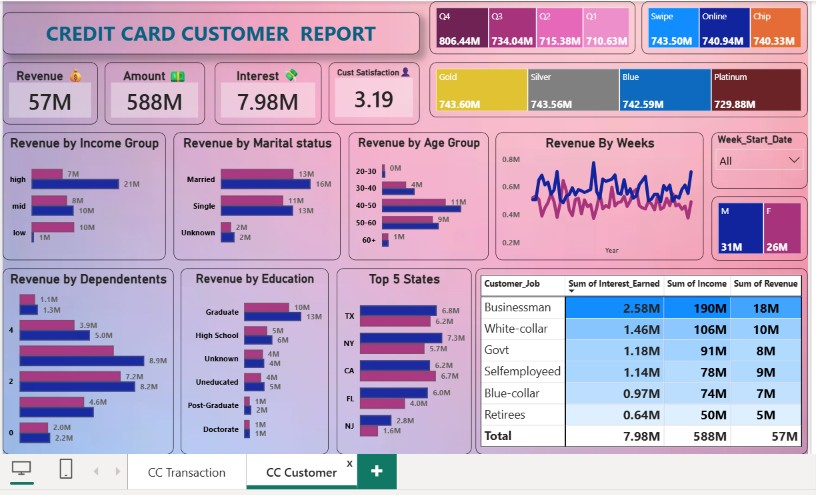

Layout of this report page (visuals, bound fields, positions):
{"tool":"powerbi","page":{"name":"CC Customer","canvas":[1280,720],"ordinal":1},"visuals":[{"type":"textbox","box":[0,17.5,663.3,66.8],"z":0},{"type":"cardVisual","title":"Revenue 💰","fields":{"Data":["Sum(ccdb1 cc_detail.Revenge)"]},"box":[0,97,151.1,98.6],"z":6},{"type":"cardVisual","title":"Interest 💸","fields":{"Data":["Sum(ccdb1 cc_detail.Interest_Earned)"]},"box":[337.2,97,170.2,98.6],"z":7},{"type":"cardVisual","title":"Amount 💵","fields":{"Data":["Sum(ccdb1 cust_detail.Income)"]},"box":[162.2,97,159.1,98.6],"z":8},{"type":"cardVisual","title":"Cust Satisfaction👤","fields":{"Data":["Avg(ccdb1 cust_detail.Cust_Satisfaction_Score)"]},"box":[518.5,97,144.7,98.6],"z":9},{"type":"slicer","fields":{"Values":["ccdb1 cc_detail.Week_Start_Date"]},"box":[1127.7,208.4,152.7,89.1],"z":10},{"type":"treemap","fields":{"Group":["ccdb1 cc_detail.Qtr"],"Values":["Avg(ccdb1 cc_detail.Client_Num)"]},"box":[679.2,0,327.7,84.3],"z":11},{"type":"treemap","fields":{"Group":["ccdb1 cc_detail.Card_Category"],"Values":["Avg(ccdb1 cc_detail.Client_Num)"]},"box":[679.2,97,601.3,87.5],"z":12},{"type":"pivotTable","fields":{"Rows":["ccdb1 cust_detail.Customer_Job"],"Values":["Sum(ccdb1 cc_detail.Interest_Earned)","Sum(ccdb1 cust_detail.Income)","Sum(ccdb1 cc_detail.Revenue)"]},"box":[752.4,424.7,528.1,295.9],"z":15},{"type":"lineChart","title":"Revenue By Weeks","fields":{"Y":["Sum(ccdb1 cc_detail.Revenue)"],"Series":["ccdb1 cust_detail.Gender"],"Category":["ccdb1 cc_detail.Week_Start_Date.Variation.Date Hierarchy.Year","ccdb1 cc_detail.Week_Start_Date.Variation.Date Hierarchy.Month","ccdb1 cc_detail.Week_Start_Date.Variation.Date Hierarchy.Day"]},"box":[784.2,208.4,330.8,203.6],"z":16},{"type":"treemap","fields":{"Group":["ccdb1 cust_detail.Gender"],"Values":["Sum(ccdb1 cc_detail.Revenue)"]},"box":[1127.7,310.2,152.7,101.8],"z":17},{"type":"clusteredBarChart","title":"Revenue by Income Group","fields":{"Y":["Sum(ccdb1 cc_detail.Revenge)"],"Category":["ccdb1 cust_detail.IncomeGroup"],"Series":["ccdb1 cust_detail.Gender"]},"box":[0,208.4,259.3,203.6],"z":21},{"type":"clusteredBarChart","title":"Revenue by Dependentents","fields":{"Y":["Sum(ccdb1 cc_detail.Revenge)"],"Category":["ccdb1 cust_detail.Dependent_Count"],"Series":["ccdb1 cust_detail.Gender"]},"box":[0,424.7,272,295.9],"z":23},{"type":"clusteredBarChart","title":"Revenue by Education","fields":{"Y":["Sum(ccdb1 cc_detail.Revenge)"],"Category":["ccdb1 cust_detail.Education_Level"],"Series":["ccdb1 cust_detail.Gender"]},"box":[283.1,424.7,235.4,295.9],"z":24},{"type":"clusteredBarChart","title":"Top 5 States","fields":{"Y":["Sum(ccdb1 cc_detail.Revenge)"],"Category":["ccdb1 cust_detail.State_cd"],"Series":["ccdb1 cust_detail.Gender"]},"box":[531.3,424.7,214.7,295.9],"z":25},{"type":"clusteredBarChart","title":"Revenue by Age Group","fields":{"Y":["Sum(ccdb1 cc_detail.Revenge)"],"Category":["ccdb1 cust_detail.AgeGroup"],"Series":["ccdb1 cust_detail.Gender"]},"box":[550.4,208.4,222.7,203.6],"z":27},{"type":"clusteredBarChart","title":"Revenue by Marital status ","fields":{"Y":["Sum(ccdb1 cc_detail.Revenge)"],"Category":["ccdb1 cust_detail.Marital_Status"],"Series":["ccdb1 cust_detail.Gender"]},"box":[272,208.4,265.6,203.6],"z":28},{"type":"treemap","fields":{"Values":["Avg(ccdb1 cc_detail.Client_Num)"],"Group":["ccdb1 cc_detail.Use_Chip"]},"box":[1016.4,0,264,84.3],"z":29}]}

Visuals, with their boxes on the page's 1280x720 design canvas (x1, y1, x2, y2). These are canvas units, not pixel positions in the 816x495 screenshot, which may show the page scaled, cropped or inside an application window:
textbox: crop(0, 18, 663, 84)
"Revenue 💰" cardVisual: crop(0, 97, 151, 196)
"Interest 💸" cardVisual: crop(337, 97, 507, 196)
"Amount 💵" cardVisual: crop(162, 97, 321, 196)
"Cust Satisfaction👤" cardVisual: crop(518, 97, 663, 196)
slicer - ccdb1 cc_detail.Week_Start_Date: crop(1128, 208, 1280, 298)
treemap - ccdb1 cc_detail.Qtr x Avg(ccdb1 cc_detail.Client_Num): crop(679, 0, 1007, 84)
treemap - ccdb1 cc_detail.Card_Category x Avg(ccdb1 cc_detail.Client_Num): crop(679, 97, 1280, 184)
pivotTable - ccdb1 cust_detail.Customer_Job x Sum(ccdb1 cc_detail.Interest_Earned): crop(752, 425, 1280, 721)
"Revenue By Weeks" lineChart: crop(784, 208, 1115, 412)
treemap - ccdb1 cust_detail.Gender x Sum(ccdb1 cc_detail.Revenue): crop(1128, 310, 1280, 412)
"Revenue by Income Group" clusteredBarChart: crop(0, 208, 259, 412)
"Revenue by Dependentents" clusteredBarChart: crop(0, 425, 272, 721)
"Revenue by Education" clusteredBarChart: crop(283, 425, 518, 721)
"Top 5 States" clusteredBarChart: crop(531, 425, 746, 721)
"Revenue by Age Group" clusteredBarChart: crop(550, 208, 773, 412)
"Revenue by Marital status " clusteredBarChart: crop(272, 208, 538, 412)
treemap - Avg(ccdb1 cc_detail.Client_Num) x ccdb1 cc_detail.Use_Chip: crop(1016, 0, 1280, 84)
